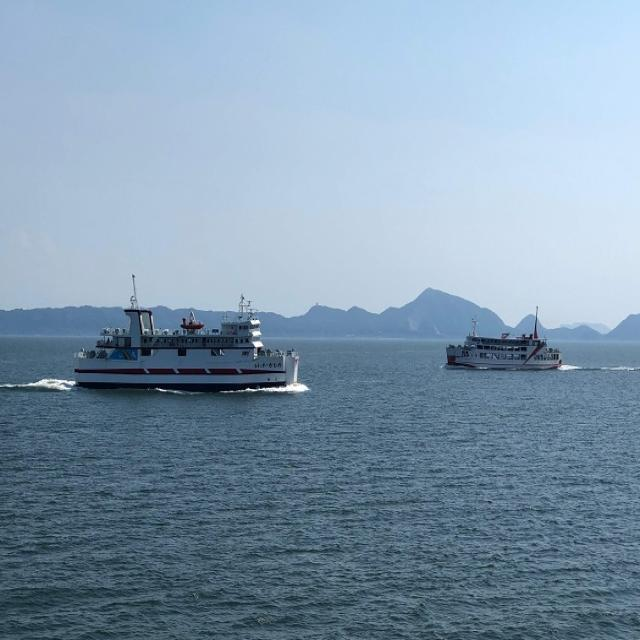fishing boat: (70, 299, 299, 400), (432, 292, 581, 366)
